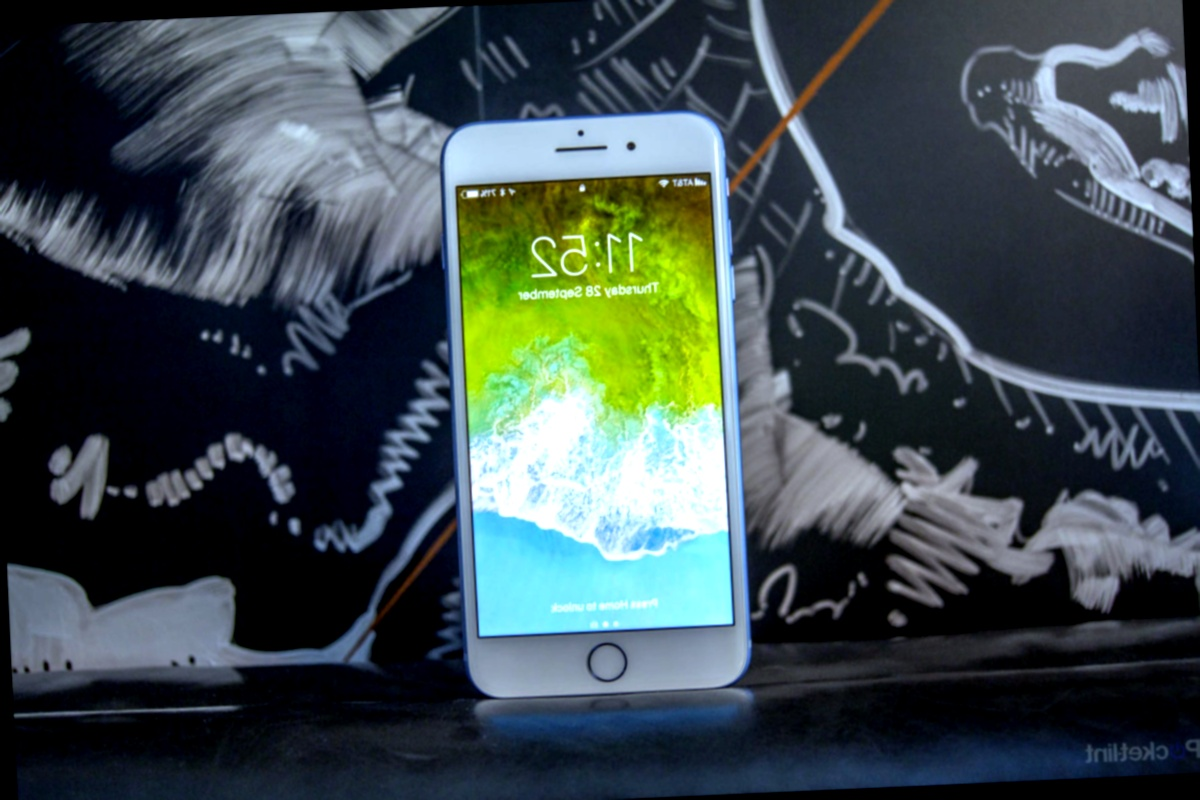iphone: (459, 114, 752, 694)
